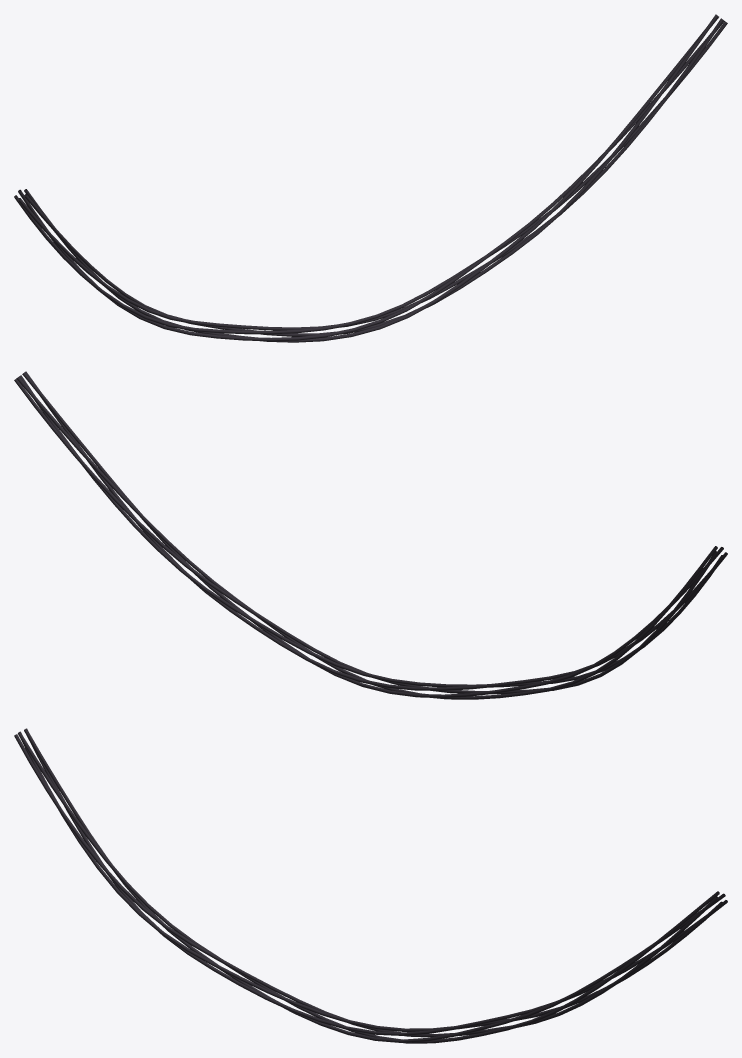
Rendered from Cable dangling.fbx.
3 views of the same model, one above another, from view 1: azimuth 30°, elevation 25°; view 2: azimuth 150°, elevation 25°; view 3: azimuth 330°, elevation 25° (orthographic).
Visible parts, largest first — view 1: Cable_dangling_Thin; view 2: Cable_dangling_Thin; view 3: Cable_dangling_Thin.
Part boxes in pixels (x1,y1,x2,y2): Cable_dangling_Thin: (14, 14, 727, 342); Cable_dangling_Thin: (14, 371, 727, 699); Cable_dangling_Thin: (14, 728, 727, 1043).
Bounding box in the file's own units: 44.31 × 13.79 × 0.8663.
1 material, 1 textured.
